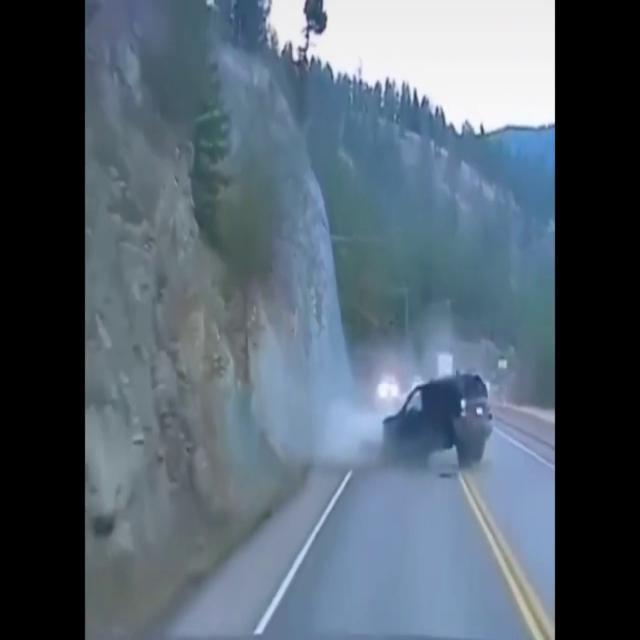single accident: (260, 282, 505, 490)
